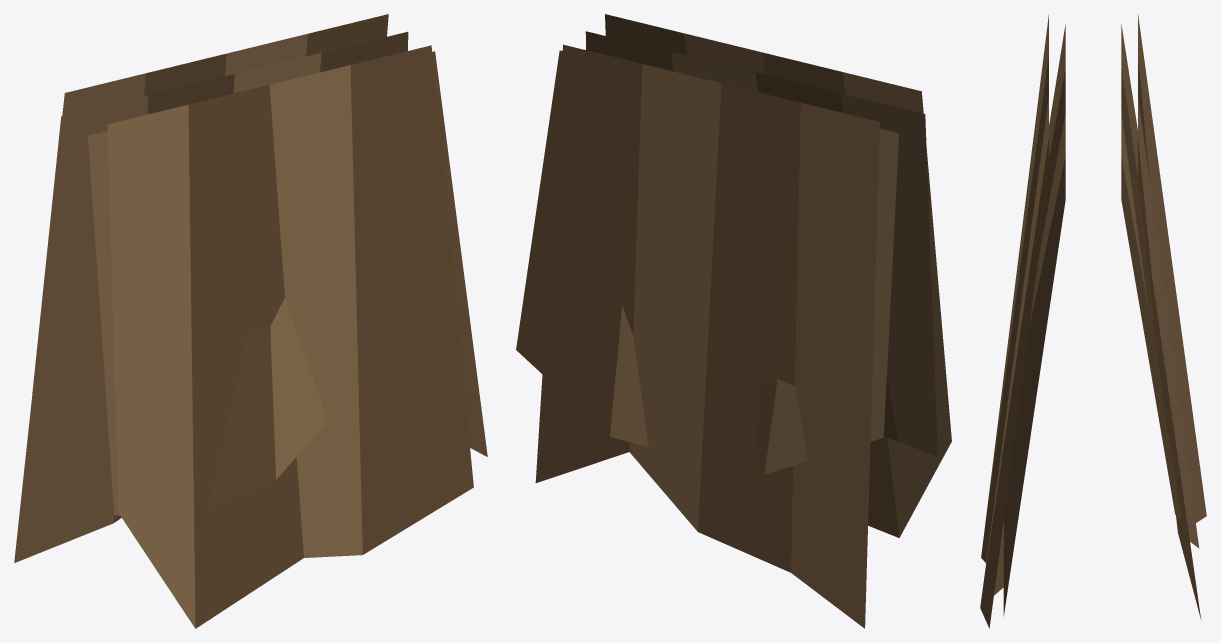
The model's file is drying_rack_pelle_3.glb.
The picture shows the model from 3 angles, left to right: view 1: azimuth 30°, elevation 25°; view 2: azimuth 150°, elevation 25°; view 3: azimuth 270°, elevation 25°; orthographic projection. The views are drawn at different scales.
Parts seen in each view (by area): view 1: drying_rack_pelle_3; view 2: drying_rack_pelle_3; view 3: drying_rack_pelle_3.
Boxes of the visible parts, x1=… form: drying_rack_pelle_3: x1=14, y1=14, x2=487, y2=628; drying_rack_pelle_3: x1=516, y1=14, x2=951, y2=628; drying_rack_pelle_3: x1=980, y1=14, x2=1206, y2=628.
Bounding box in the file's own units: 0.8139 × 1.02 × 0.4066.
